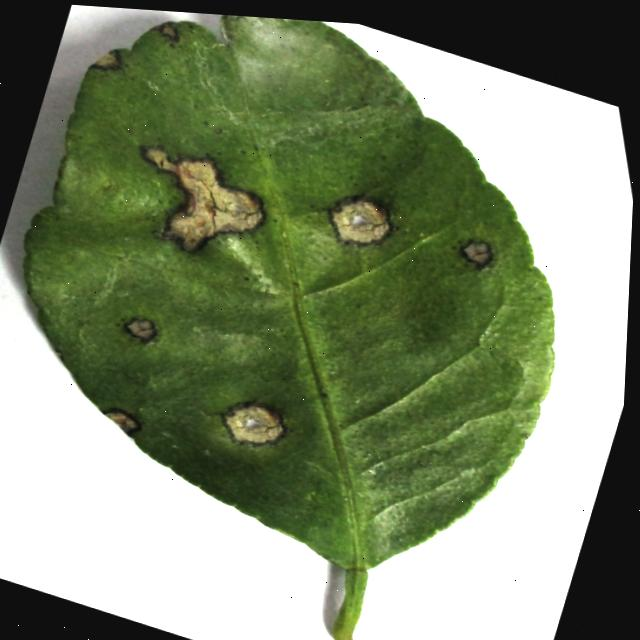antracnose: (23, 15, 553, 640), (140, 147, 262, 252), (220, 402, 286, 446), (328, 197, 389, 244), (103, 408, 140, 434), (123, 318, 156, 343), (461, 241, 492, 267), (89, 50, 121, 69)
